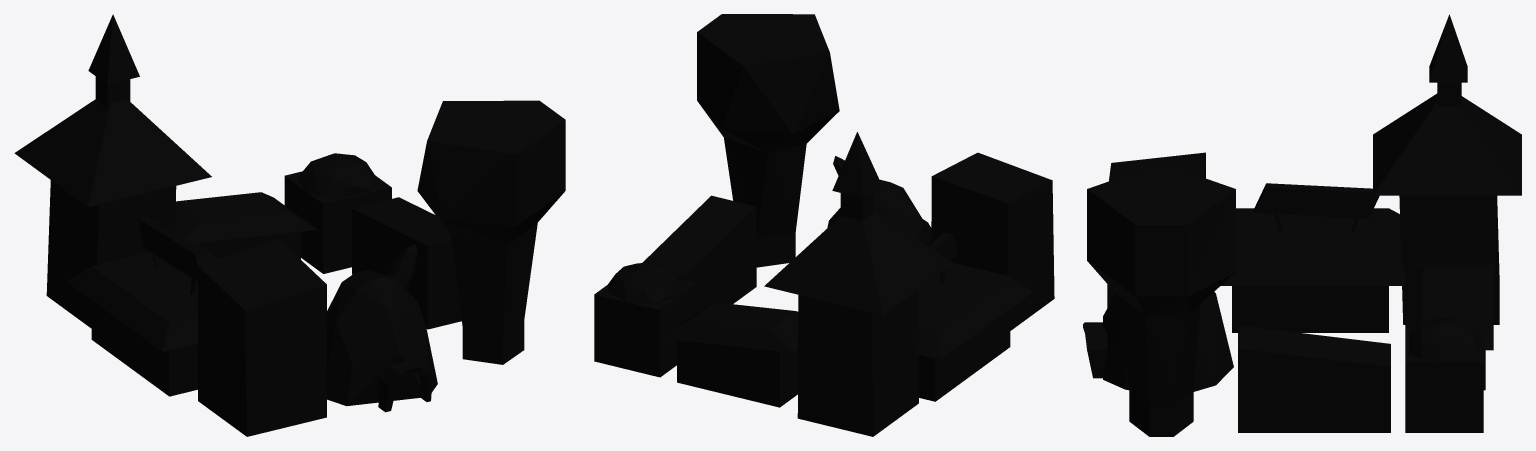
The model's file is Town.glb.
3 views of the same model, side by side, from view 1: azimuth 30°, elevation 25°; view 2: azimuth 150°, elevation 25°; view 3: azimuth 270°, elevation 25° (orthographic). The views are drawn at different scales.
Visible parts, largest first — view 1: Town; view 2: Town; view 3: Town.
Part boxes in pixels (bbox=[...]): Town: bbox=[14, 14, 565, 436]; Town: bbox=[594, 14, 1054, 436]; Town: bbox=[1083, 14, 1521, 436].
Size of the model in its own units: 108 by 82.93 by 112.
Materials: 1 (1 with a texture image).
